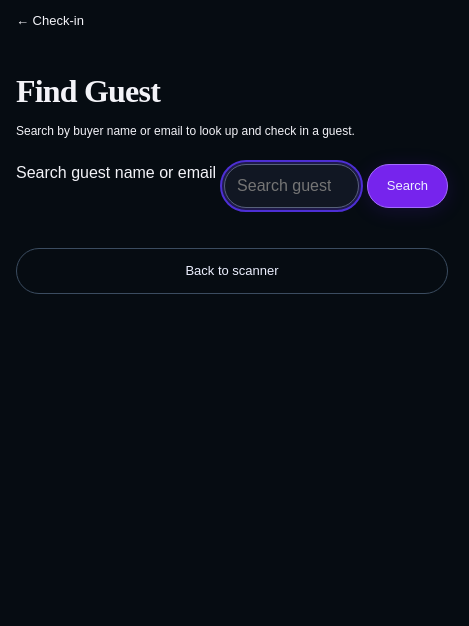
it: keeps duplicate free registrant names separated by registration source
Type "Alex Chen" into the search field at (291, 186), box [224,164,359,208]
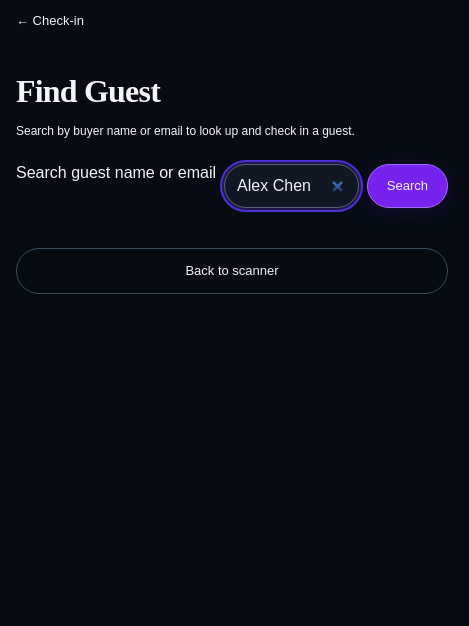
Click the button "Search" at (407, 186), box [367,164,448,208]
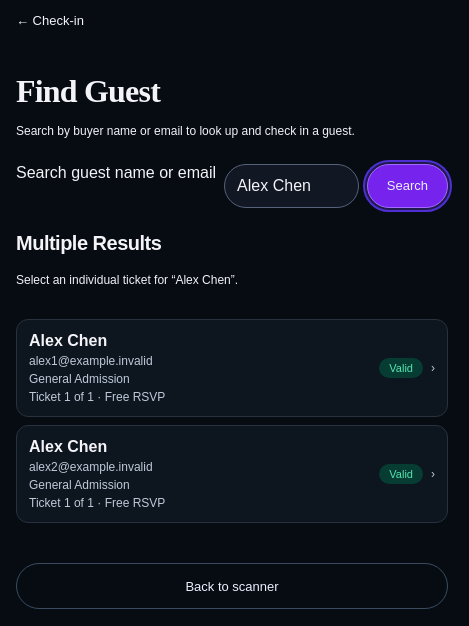
Check: the heading "Multiple Results" is shown, box [16,232,161,254]
Check: the number of links "Alex Chen" is 2, box [16,319,448,417]; [16,425,448,523]
